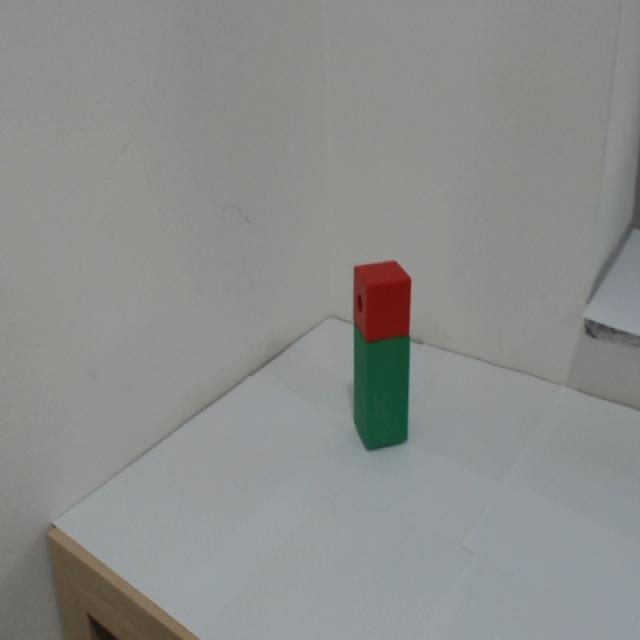cube: (326, 242, 436, 345)
